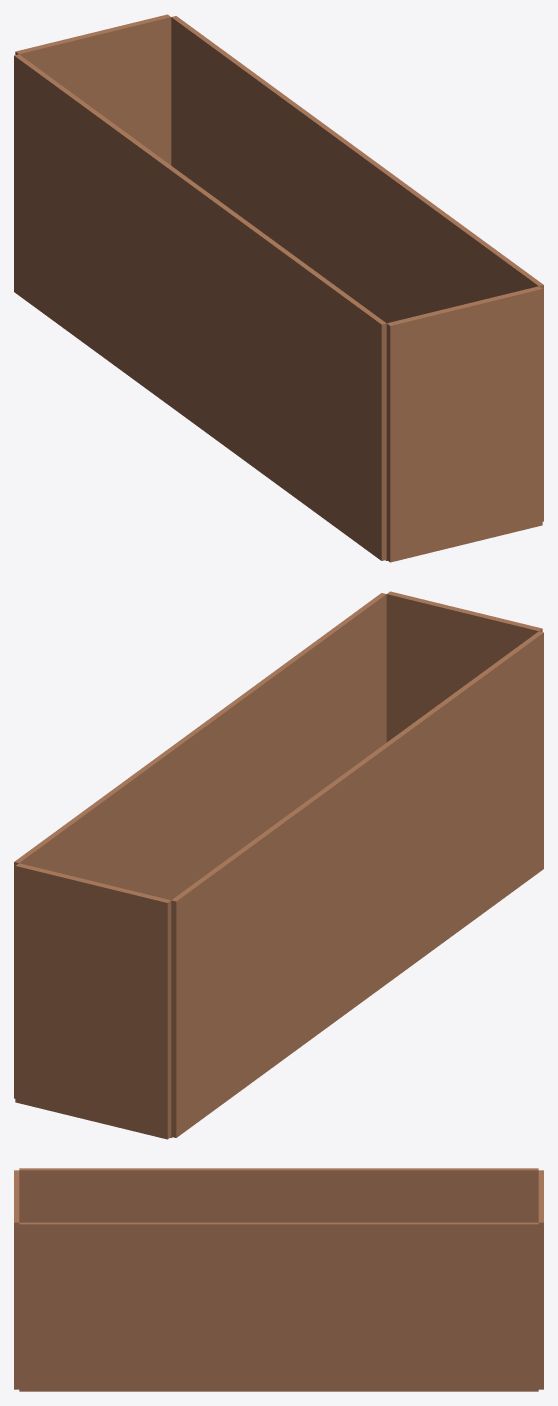
File: masetero.fbx
3 views of the same model, one above another, from view 1: azimuth 30°, elevation 25°; view 2: azimuth 150°, elevation 25°; view 3: azimuth 270°, elevation 25° (orthographic). The views are drawn at different scales.
Visible parts, largest first — view 1: Plane; view 2: Plane; view 3: Plane.
Part boxes in pixels (x1,y1,x2,y2): Plane: [14, 14, 543, 562]; Plane: [14, 591, 543, 1139]; Plane: [14, 1168, 543, 1391].
Size of the model in its own units: 50 by 70 by 200.
